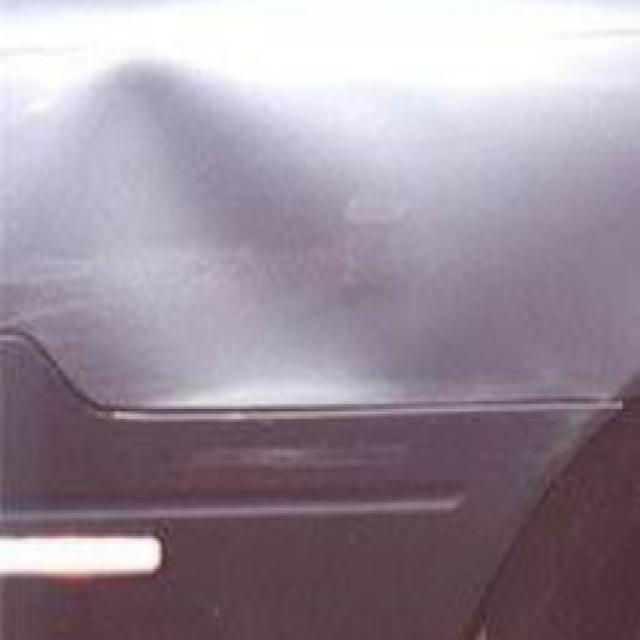dents: (41, 36, 385, 400)
